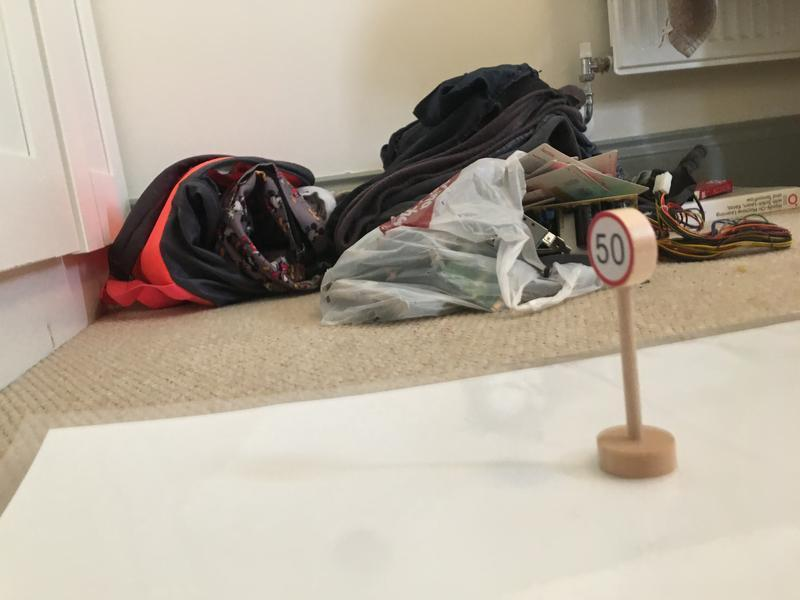Traffic_Sign_50: (589, 212, 632, 287)
